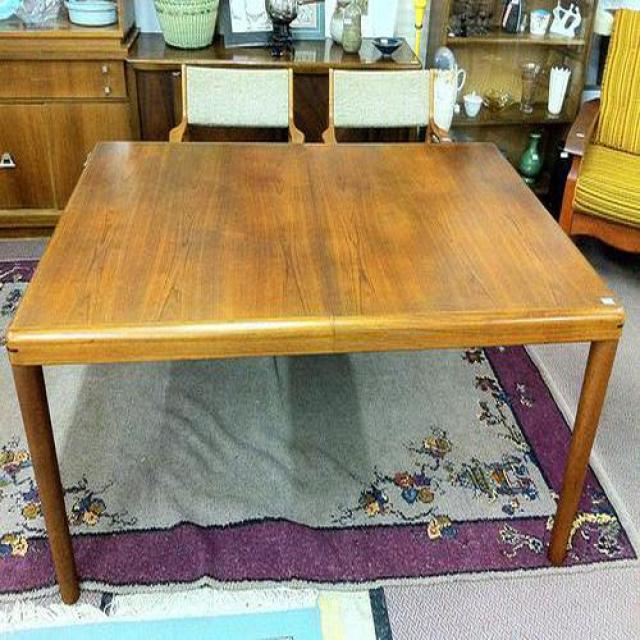table: (5, 141, 626, 605)
